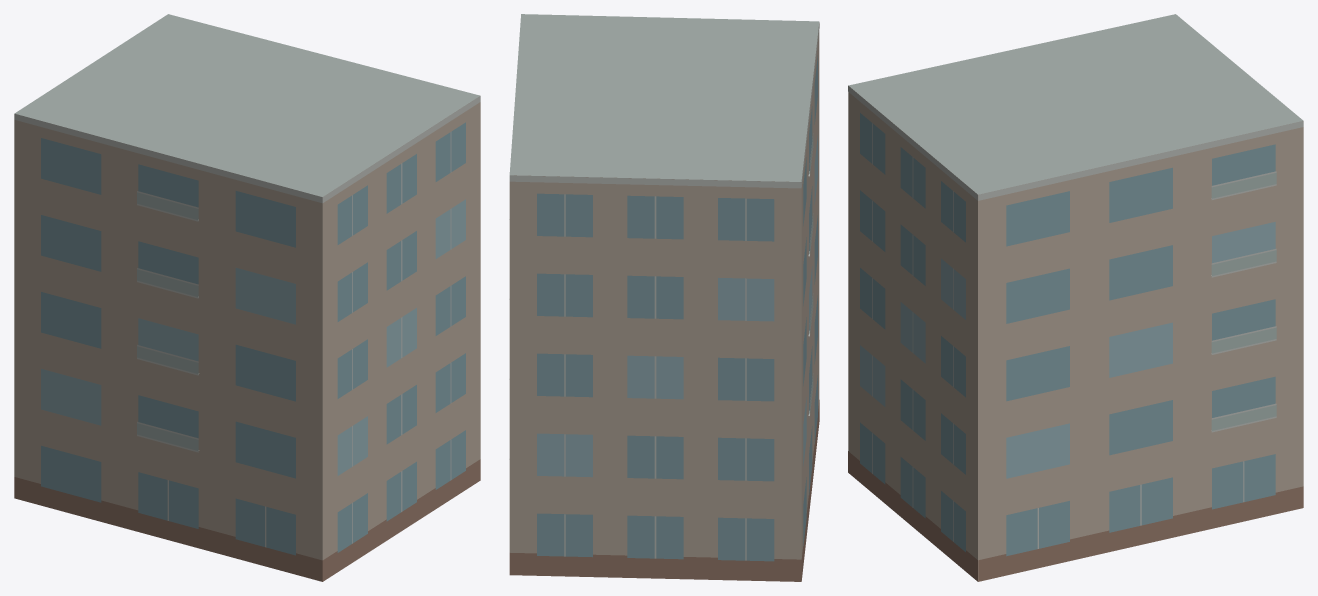
File: survey-upis-32837031.glb
The picture shows the model from 3 angles, left to right: view 1: azimuth 30°, elevation 25°; view 2: azimuth 150°, elevation 25°; view 3: azimuth 270°, elevation 25°; orthographic projection. The views are drawn at different scales.
Parts seen in each view (by area): view 1: survey-upis-32837031.tmp; view 2: survey-upis-32837031.tmp; view 3: survey-upis-32837031.tmp.
Boxes of the visible parts, bbox=[...] form: survey-upis-32837031.tmp: bbox=[14, 14, 480, 581]; survey-upis-32837031.tmp: bbox=[509, 14, 819, 581]; survey-upis-32837031.tmp: bbox=[848, 14, 1303, 581].
Size of the model in its own units: 15.28 by 15.25 by 16.27.
